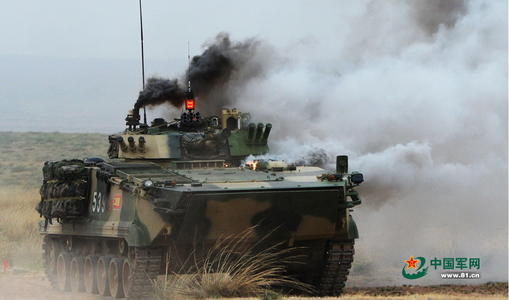smoke: (214, 26, 509, 174)
